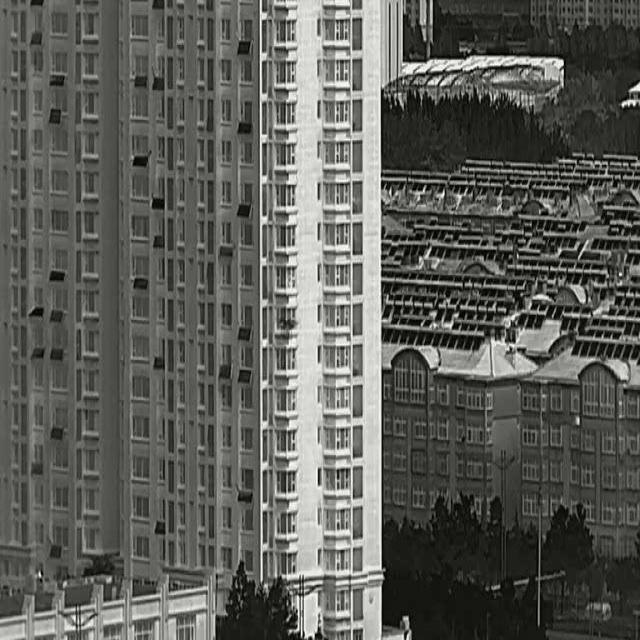drone: (279, 318, 298, 338)
